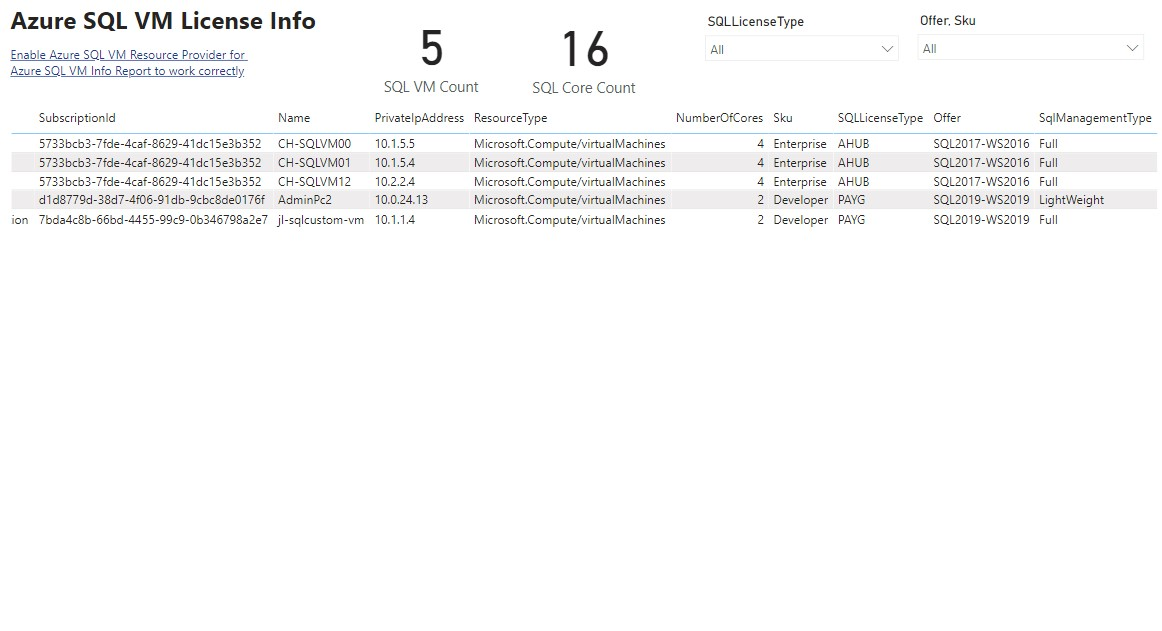

The dashboard page shown, as its layout file describes it:
{"tool":"powerbi","page":{"name":"SQL VMs","canvas":[1280,720],"ordinal":1},"visuals":[{"type":"tableEx","fields":{"Values":["VMInfo.SubscriptionName","VMInfo.SubscriptionId","VMInfo.Name","VMInfo.PrivateIpAddress","VMInfo.ResourceType","VMInfo.NumberOfCores","SQLVMInfo.Sku","SQLVMInfo.SQLLicenseType","SQLVMInfo.Offer","SQLVMInfo.SqlManagementType"]},"box":[9.6,115.4,1270.4,604.3],"z":0},{"type":"slicer","fields":{"Values":["SQLVMInfo.SQLLicenseType"]},"box":[767.7,12.4,233.5,71.4],"z":1000},{"type":"slicer","fields":{"Values":["SQLVMInfo.Offer","SQLVMInfo.Sku"]},"box":[1001.2,11,269.2,60.4],"z":2000},{"type":"textbox","box":[9.8,0,409.9,60.2],"z":3000},{"type":"card","fields":{"Values":["SQLVMInfo.SQL VM Count"]},"box":[403.8,0,147,116.7],"z":4000},{"type":"card","fields":{"Values":["SQLVMInfo.SQL Core Count"]},"box":[574.1,1.4,141.5,115.4],"z":5000},{"type":"textbox","box":[9.6,48.1,281.5,46.7],"z":5001}]}

Visuals, with their boxes on the page's 1280x720 design canvas (x1, y1, x2, y2). These are canvas units, not pixel positions in the 1162x631 screenshot, which may show the page scaled, cropped or inside an application window:
tableEx - VMInfo.SubscriptionName x VMInfo.SubscriptionId: <region>10, 115, 1280, 720</region>
slicer - SQLVMInfo.SQLLicenseType: <region>768, 12, 1001, 84</region>
slicer - SQLVMInfo.Offer x SQLVMInfo.Sku: <region>1001, 11, 1270, 71</region>
textbox: <region>10, 0, 420, 60</region>
card - SQLVMInfo.SQL VM Count: <region>404, 0, 551, 117</region>
card - SQLVMInfo.SQL Core Count: <region>574, 1, 716, 117</region>
textbox: <region>10, 48, 291, 95</region>
